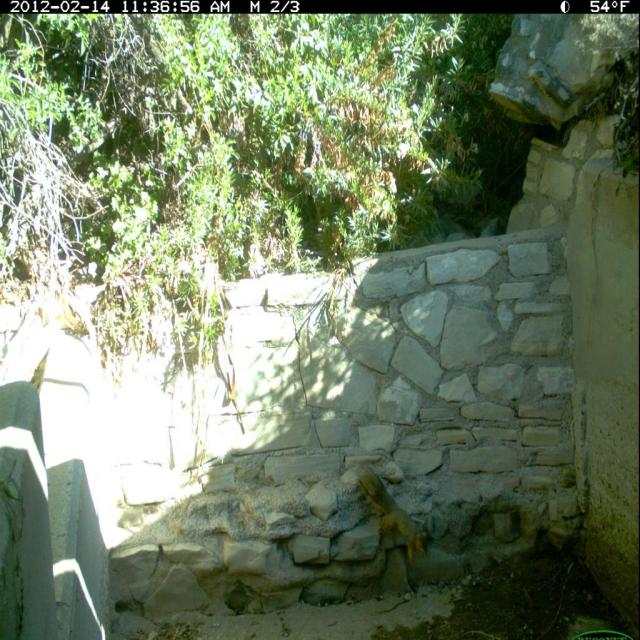squirrel: (354, 458, 432, 569)
